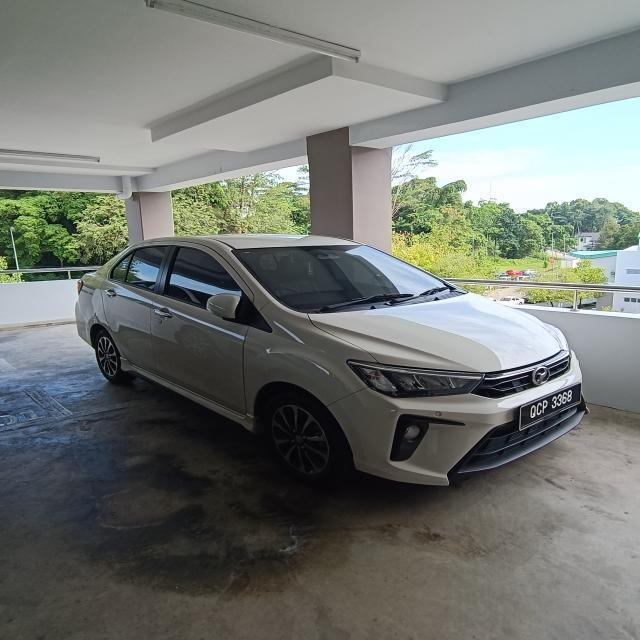PeroduaBezza: (73, 232, 590, 488)
